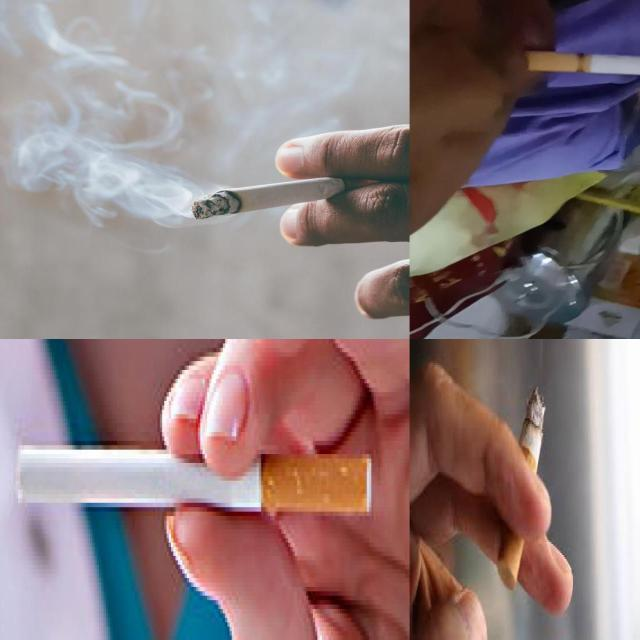cigarette: (13, 440, 370, 508), (498, 386, 546, 592), (192, 174, 380, 222), (524, 49, 640, 81)
